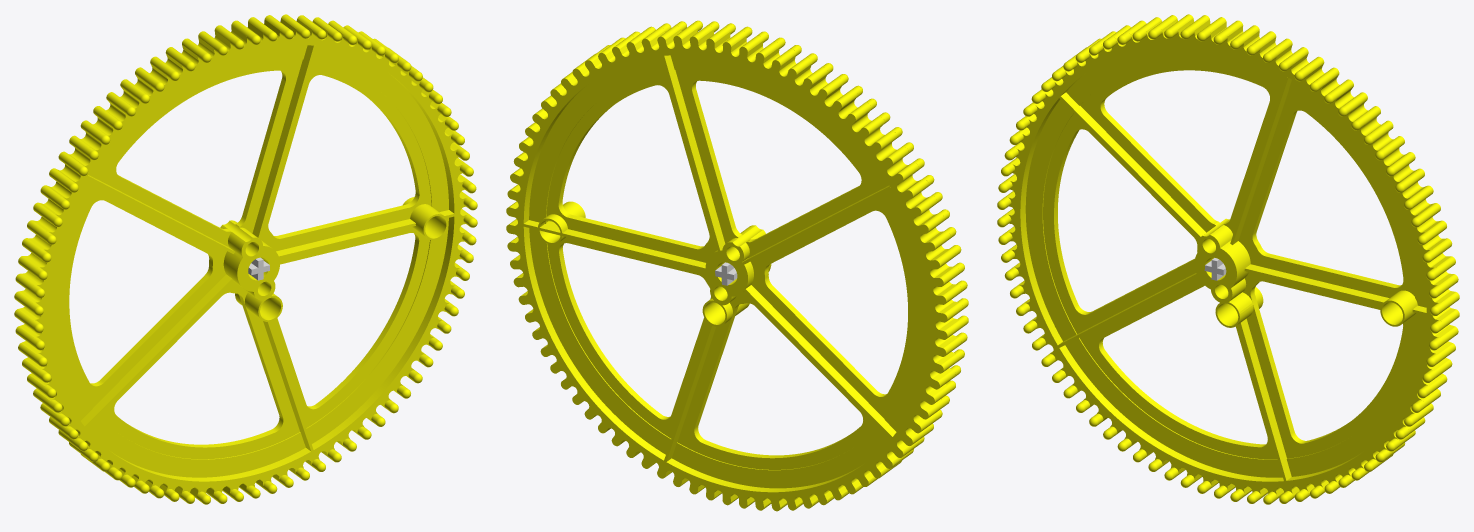
Rendered from robot3d.glb.
The picture shows the model from 3 angles, left to right: view 1: azimuth 30°, elevation 25°; view 2: azimuth 150°, elevation 25°; view 3: azimuth 330°, elevation 25°; orthographic projection.
Parts seen in each view (by area): view 1: Body01; view 2: Body01; view 3: Body01.
Part boxes in pixels (x1,y1,x2,y2): Body01: [14, 14, 477, 504]; Body01: [506, 20, 968, 511]; Body01: [997, 14, 1459, 504].
Size of the model in its own units: 13.15 by 13.16 by 1.42.
